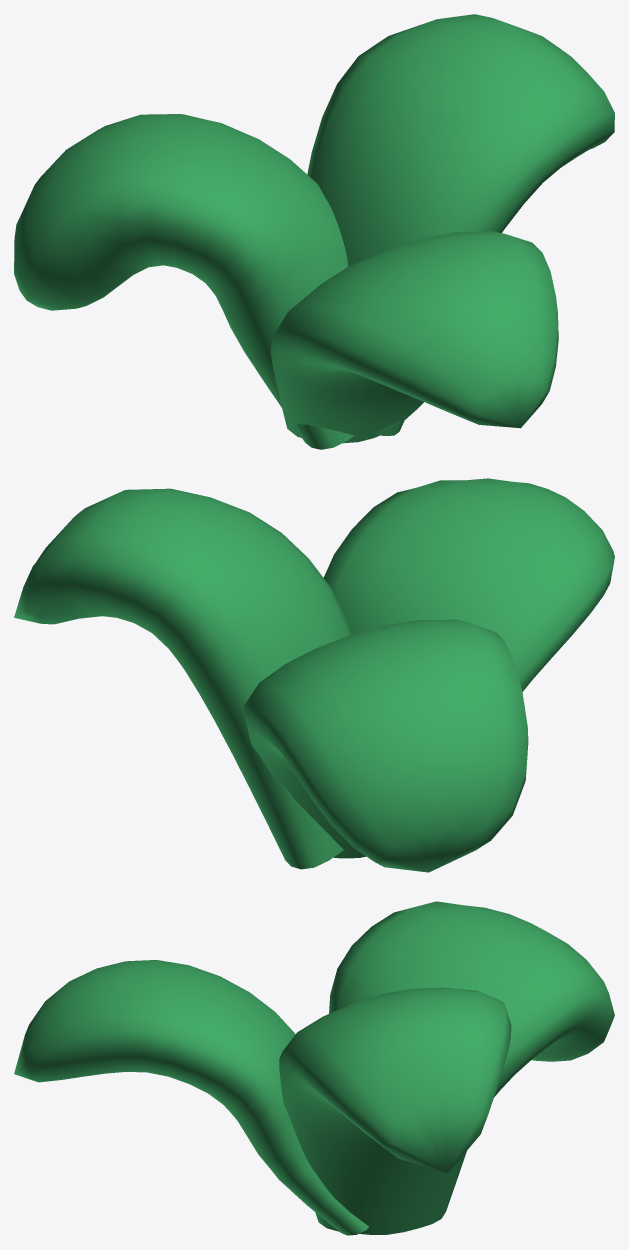
File: Herb_C_02.fbx
3 views of the same model, one above another, from view 1: azimuth 30°, elevation 25°; view 2: azimuth 150°, elevation 25°; view 3: azimuth 270°, elevation 25° (orthographic). The views are drawn at different scales.
Parts seen in each view (by area): view 1: Herb_C_02_LOD0; view 2: Herb_C_02_LOD0; view 3: Herb_C_02_LOD0.
Part boxes in pixels (x1,y1,x2,y2): Herb_C_02_LOD0: (14, 14, 614, 449); Herb_C_02_LOD0: (14, 478, 614, 872); Herb_C_02_LOD0: (14, 901, 614, 1235).
Size of what is drawn, in the model's own units: 534 by 313 by 587.
